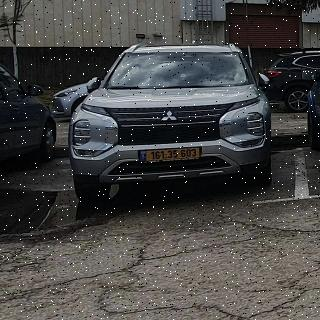LicensePlate: (146, 148, 200, 160)
